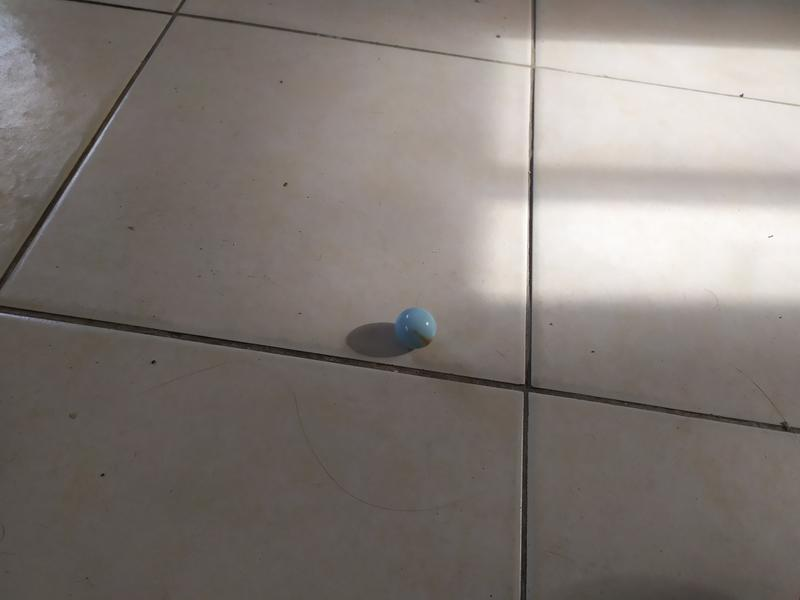Warning: (392, 305, 439, 351)
